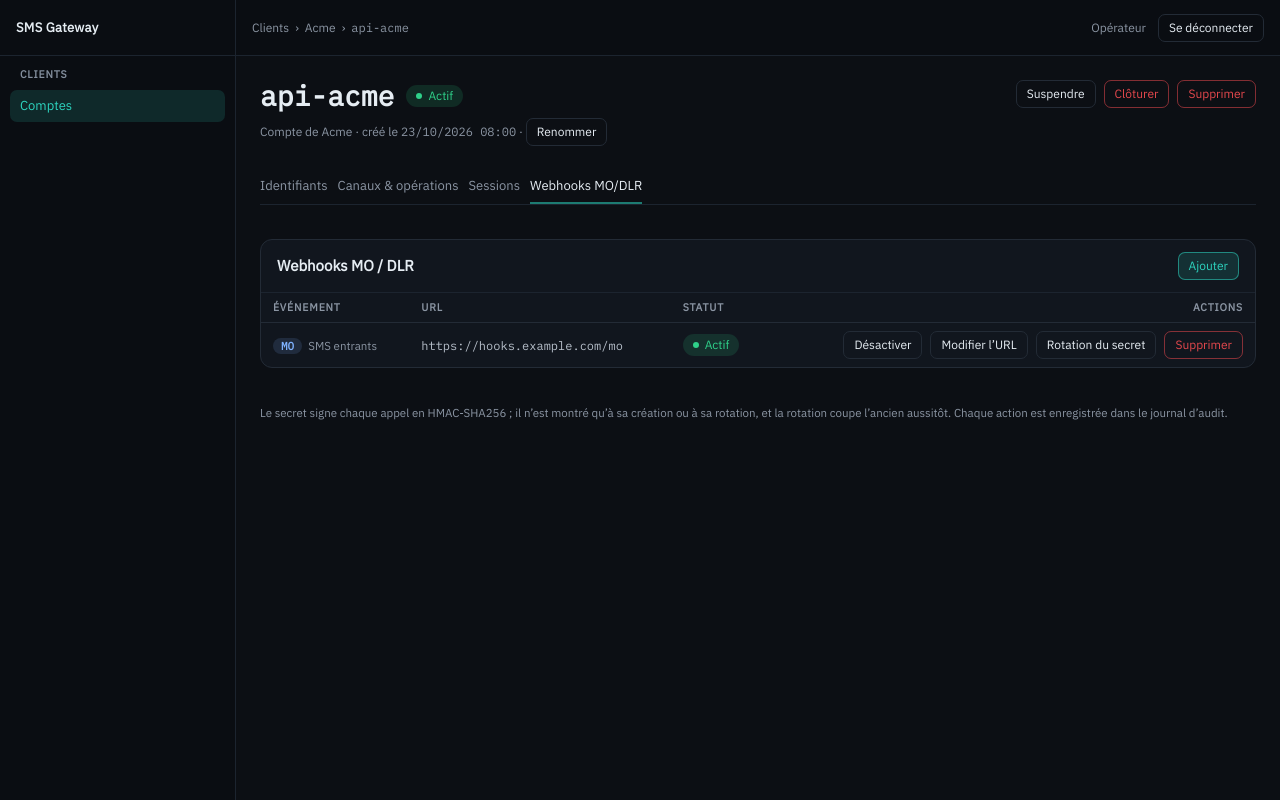
Test: a new webhook shows its secret once, then nothing is left of it and the focus is back on Ajouter
Step 1. Click the button "Ajouter" → (1208, 266), box x1=1178 y1=252 x2=1239 y2=280
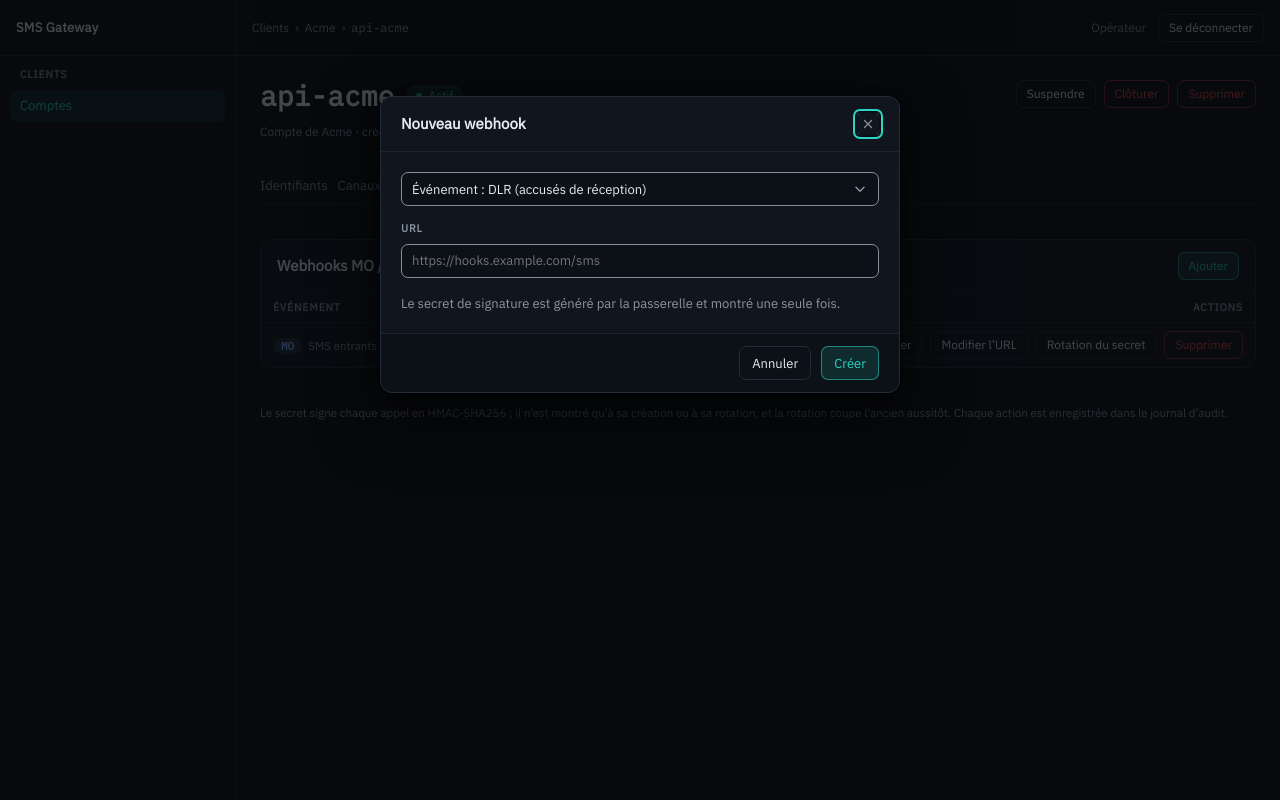
Expected: the dropdown labelled "Événement" shows "DLR"
Step 2. Click the dropdown labelled "Événement" → (640, 189), box x1=401 y1=172 x2=879 y2=206
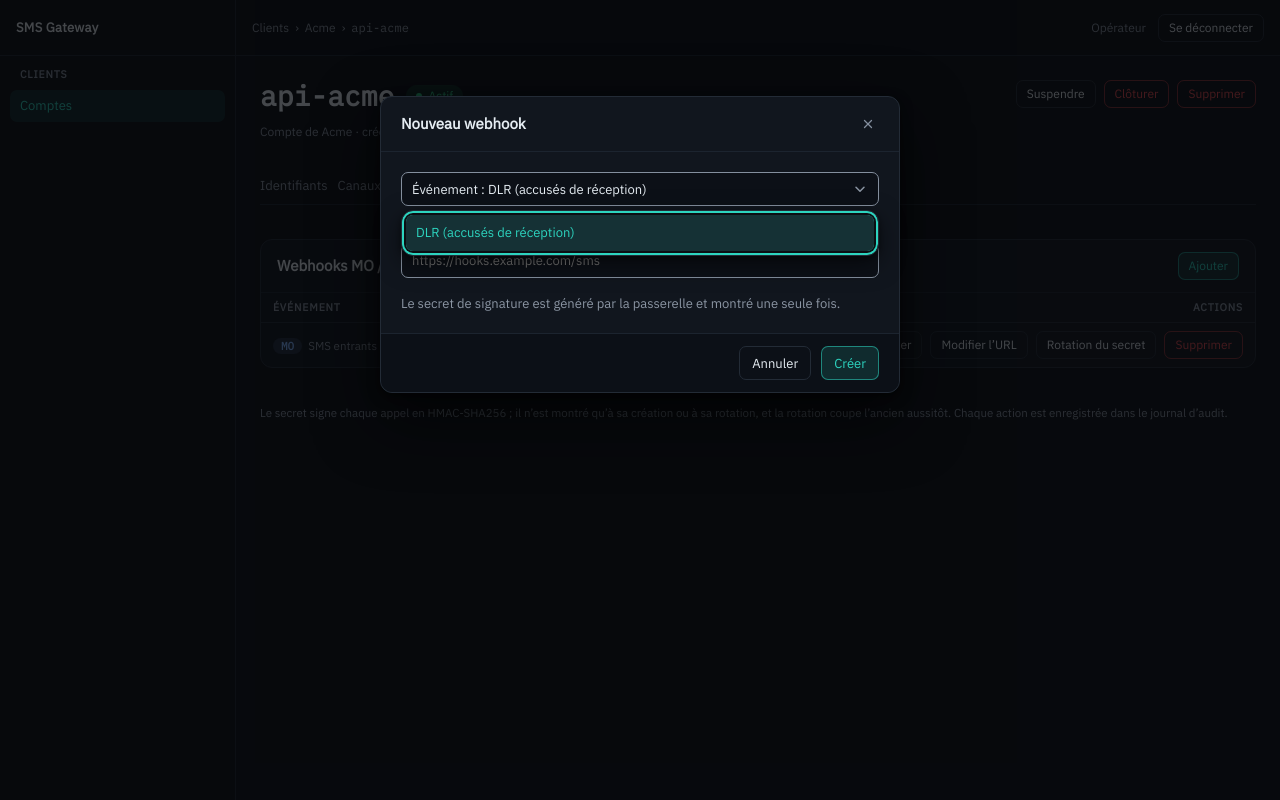
Expected: the options read "DLR (accusés de réception)", in this order, x1=406 y1=215 x2=874 y2=250
Step 3. Press Escape
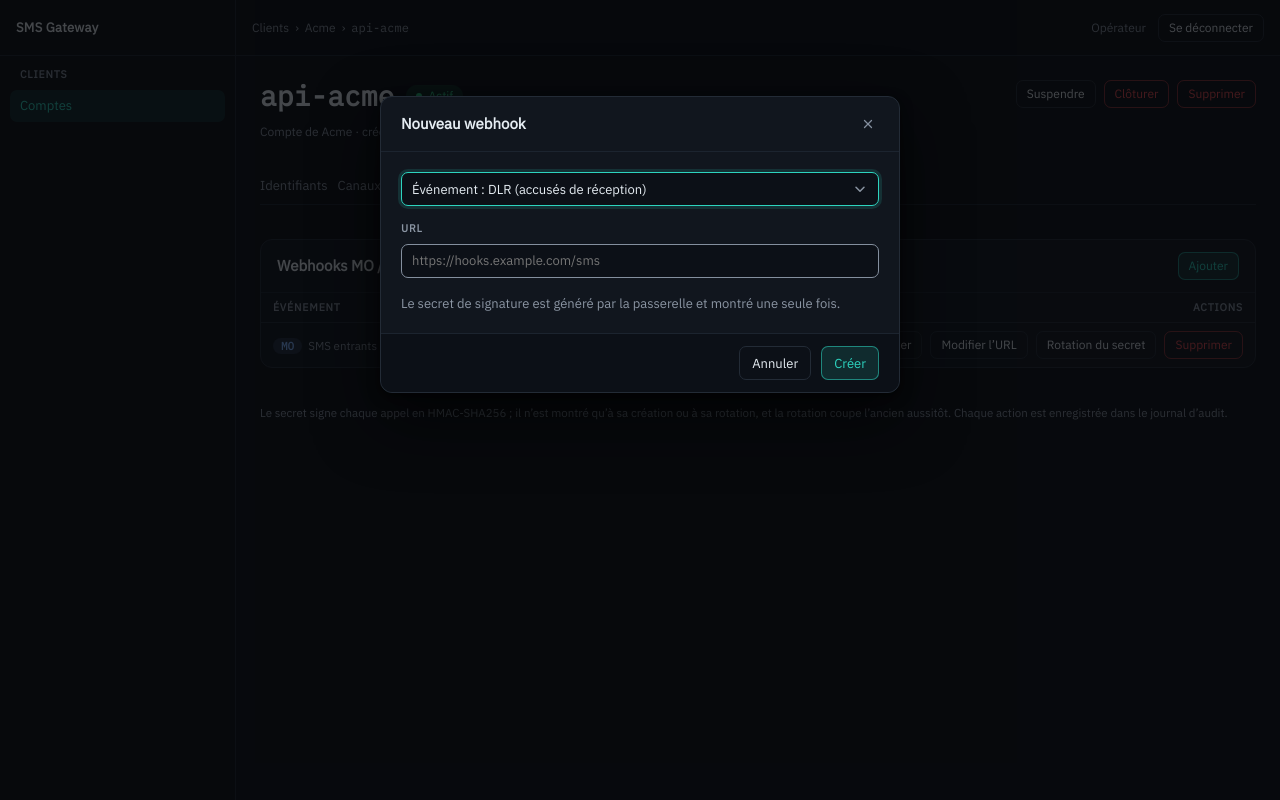
Step 4. Type "http://hooks.example.com" into the field labelled "URL" → (640, 261), box x1=401 y1=244 x2=879 y2=278
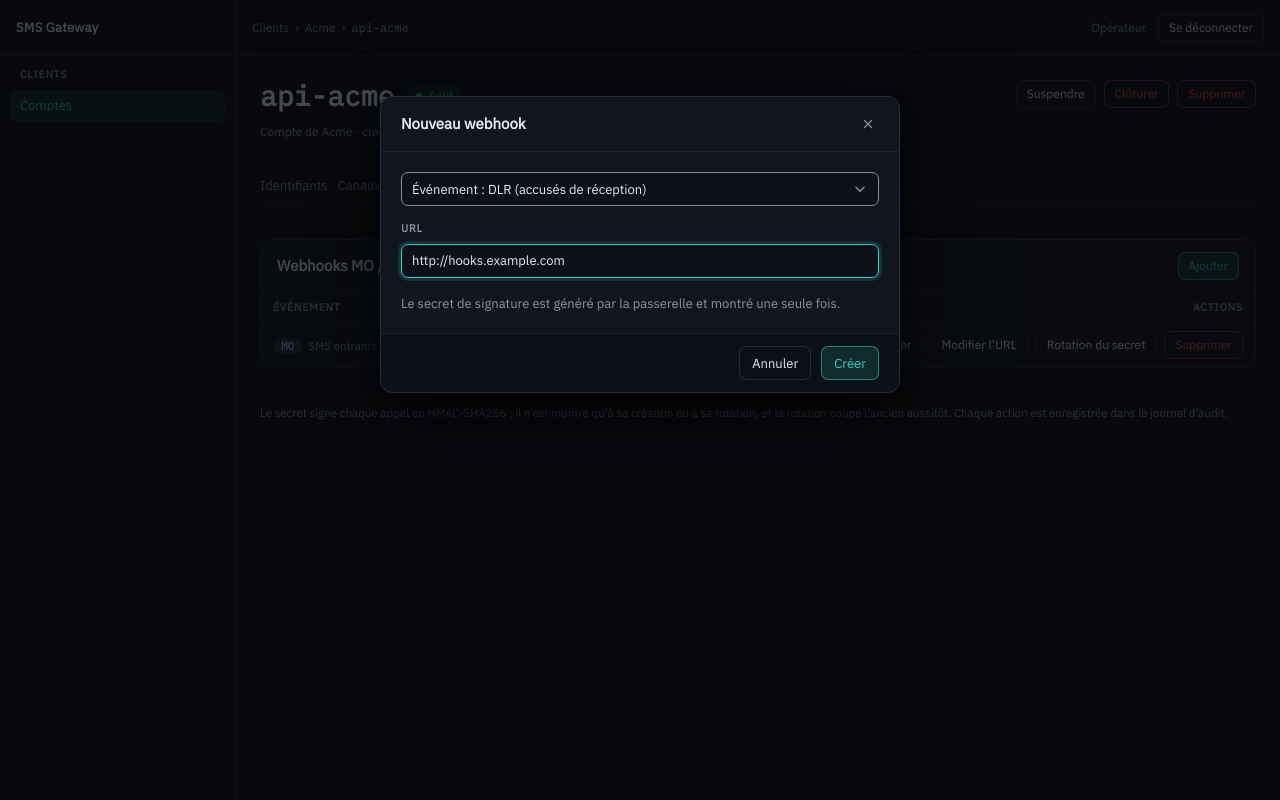
Step 5. Replace the text in the field labelled "URL" with "https://u@hooks.example.com" → (640, 261), box x1=401 y1=244 x2=879 y2=278
Step 6. Replace the text in the field labelled "URL" with "https://hooks.example.com/dlr" → (640, 261), box x1=401 y1=244 x2=879 y2=278
Step 7. Click the button "Créer" → (850, 363), box x1=821 y1=346 x2=879 y2=380
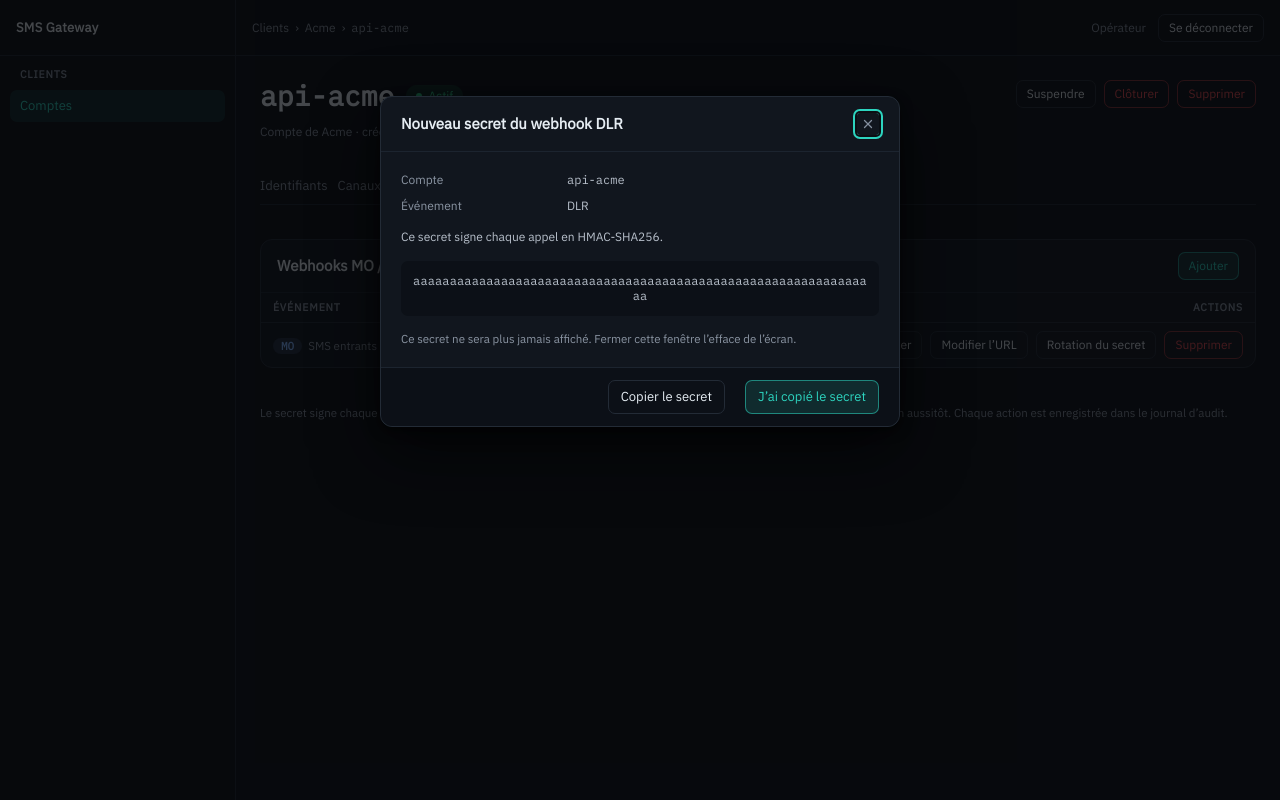
Expected: the dialog "Nouveau secret du webhook DLR" shows "Ce secret signe chaque appel en HMAC-SHA256.", x1=401 y1=229 x2=663 y2=244
Step 8. Click the button "J’ai copié le secret" → (812, 397), box x1=745 y1=380 x2=879 y2=414
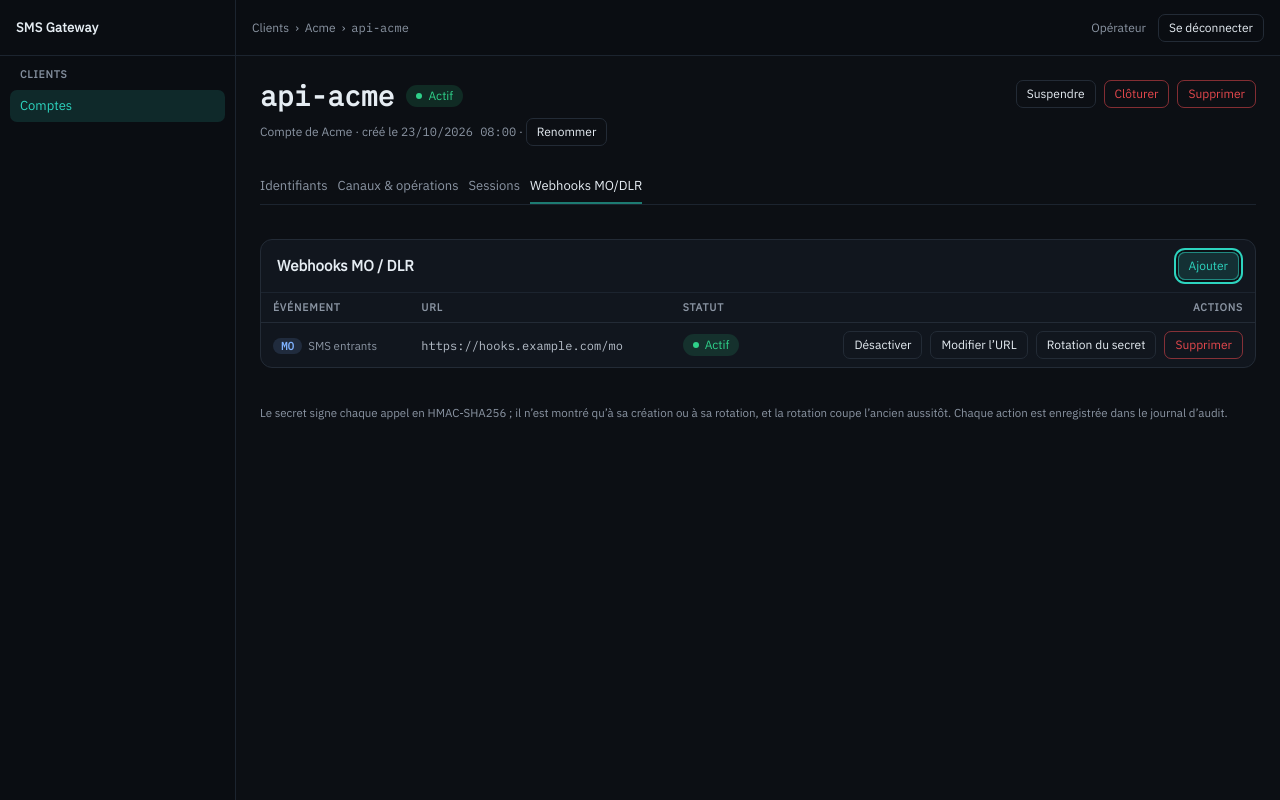
Expected: the dialog is gone
